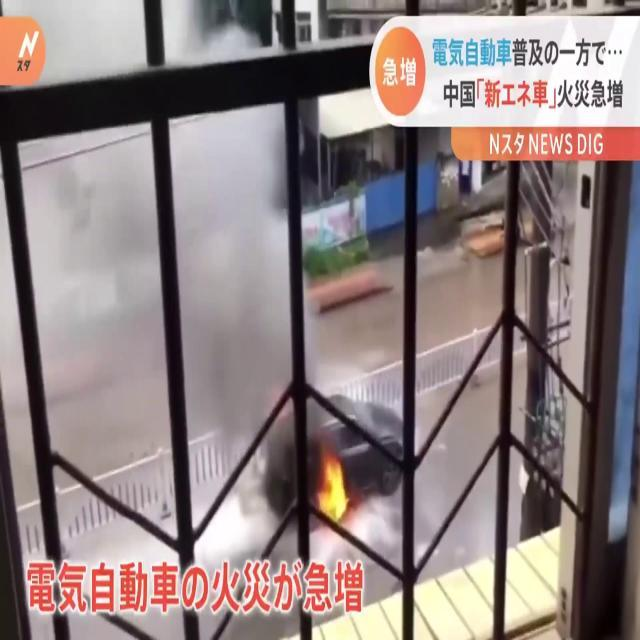Fire: (314, 446, 352, 534)
Smoke: (40, 121, 304, 492)
